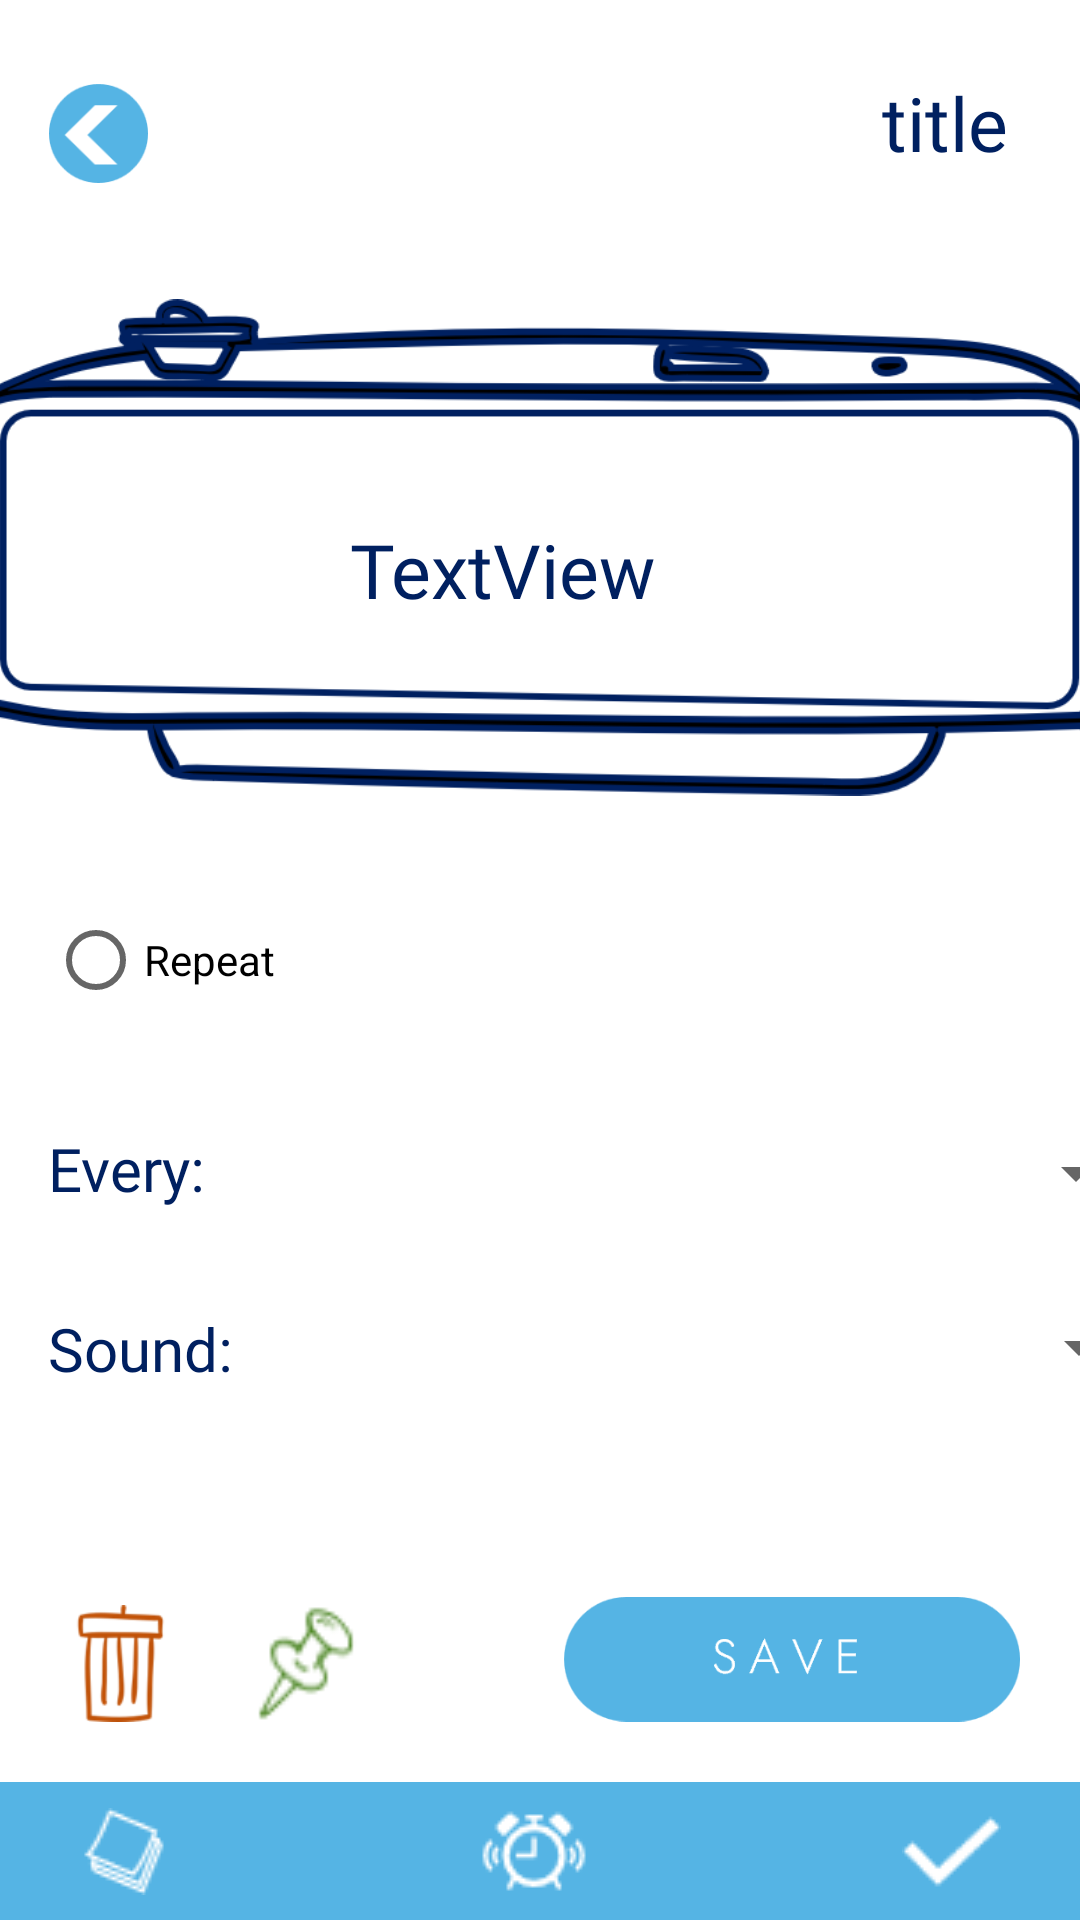

Icons on this 1080 x 1920 Android screen, each with its box as bbox(x1, y1, x2, y2):
alarms: bbox(482, 1812, 586, 1891)
back: bbox(49, 84, 148, 183)
pin: bbox(259, 1607, 354, 1719)
trash: bbox(77, 1605, 164, 1722)
